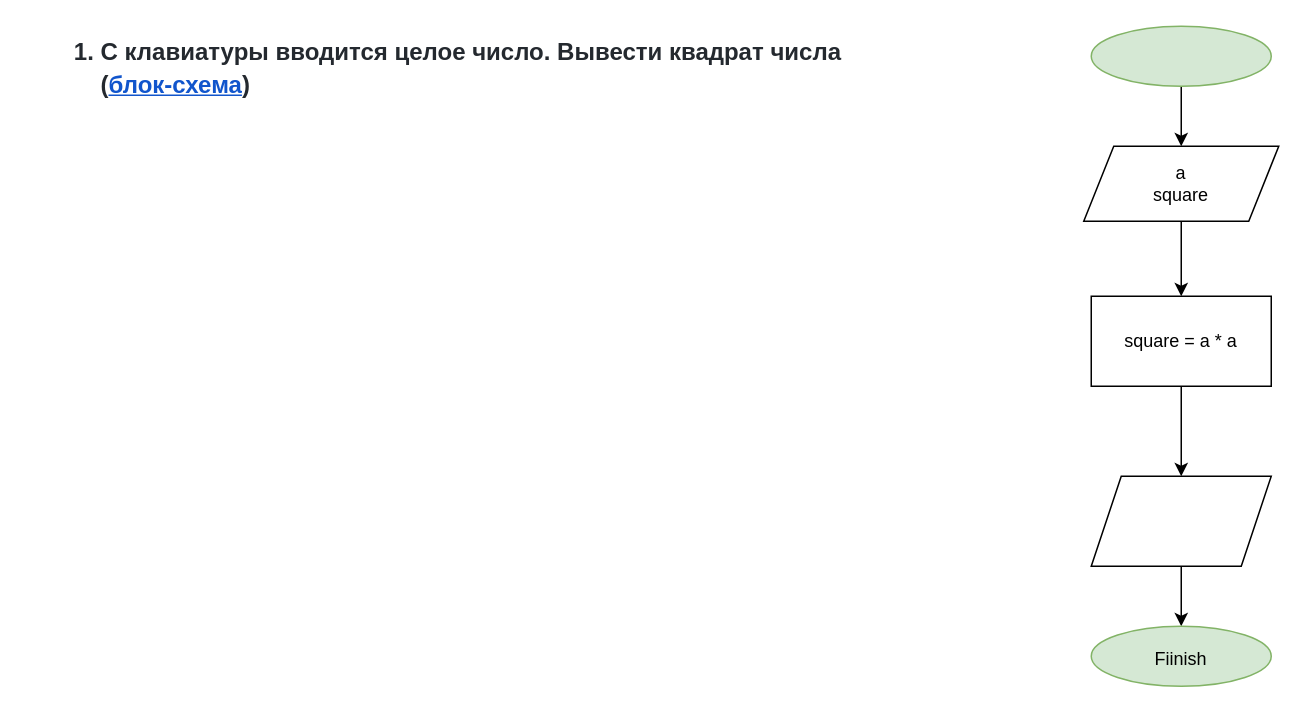
This 1305x713 diagram has some shape labels left out. Here are the shapes that lost their labels. From the top down, the centre of each, then its label:
the point at 1180,55: Start
the point at 1180,520: square
